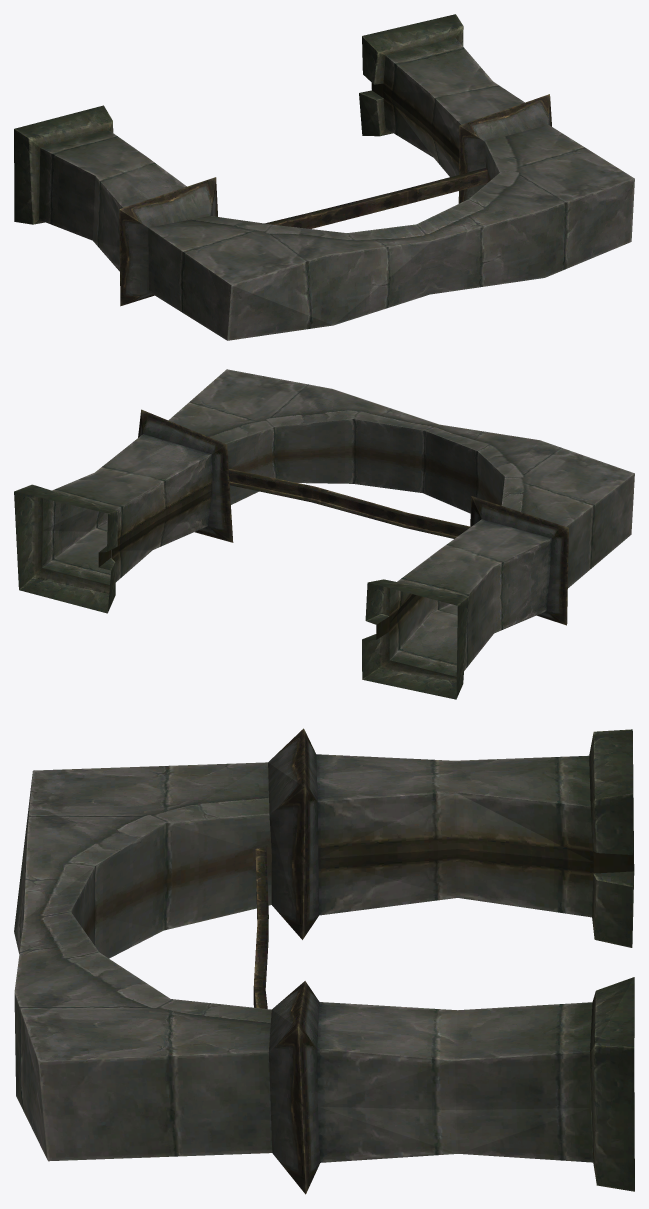
The model's file is juqing_fuben_285_men_01a.obj.
3 renders of one model, top to bottom at view 1: azimuth 30°, elevation 25°; view 2: azimuth 150°, elevation 25°; view 3: azimuth 270°, elevation 25°, orthographic. The views are drawn at different scales.
Parts seen in each view (by area): view 1: juqing_fuben_285_men_01; view 2: juqing_fuben_285_men_01; view 3: juqing_fuben_285_men_01.
Part boxes in pixels (<box>): juqing_fuben_285_men_01: <box>14,14,634,340</box>; juqing_fuben_285_men_01: <box>14,369,634,699</box>; juqing_fuben_285_men_01: <box>14,728,634,1194</box>.
Bounding box in the file's own units: 410 × 97.77 × 326.
Materials: 1 (1 with a texture image).
